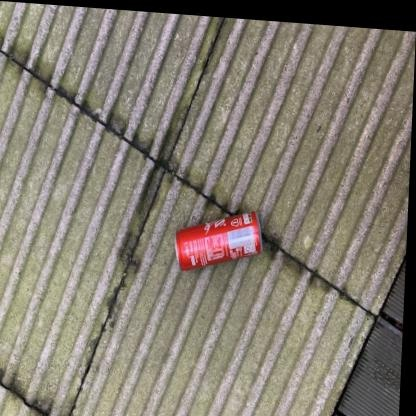trash: (176, 212, 261, 270)
